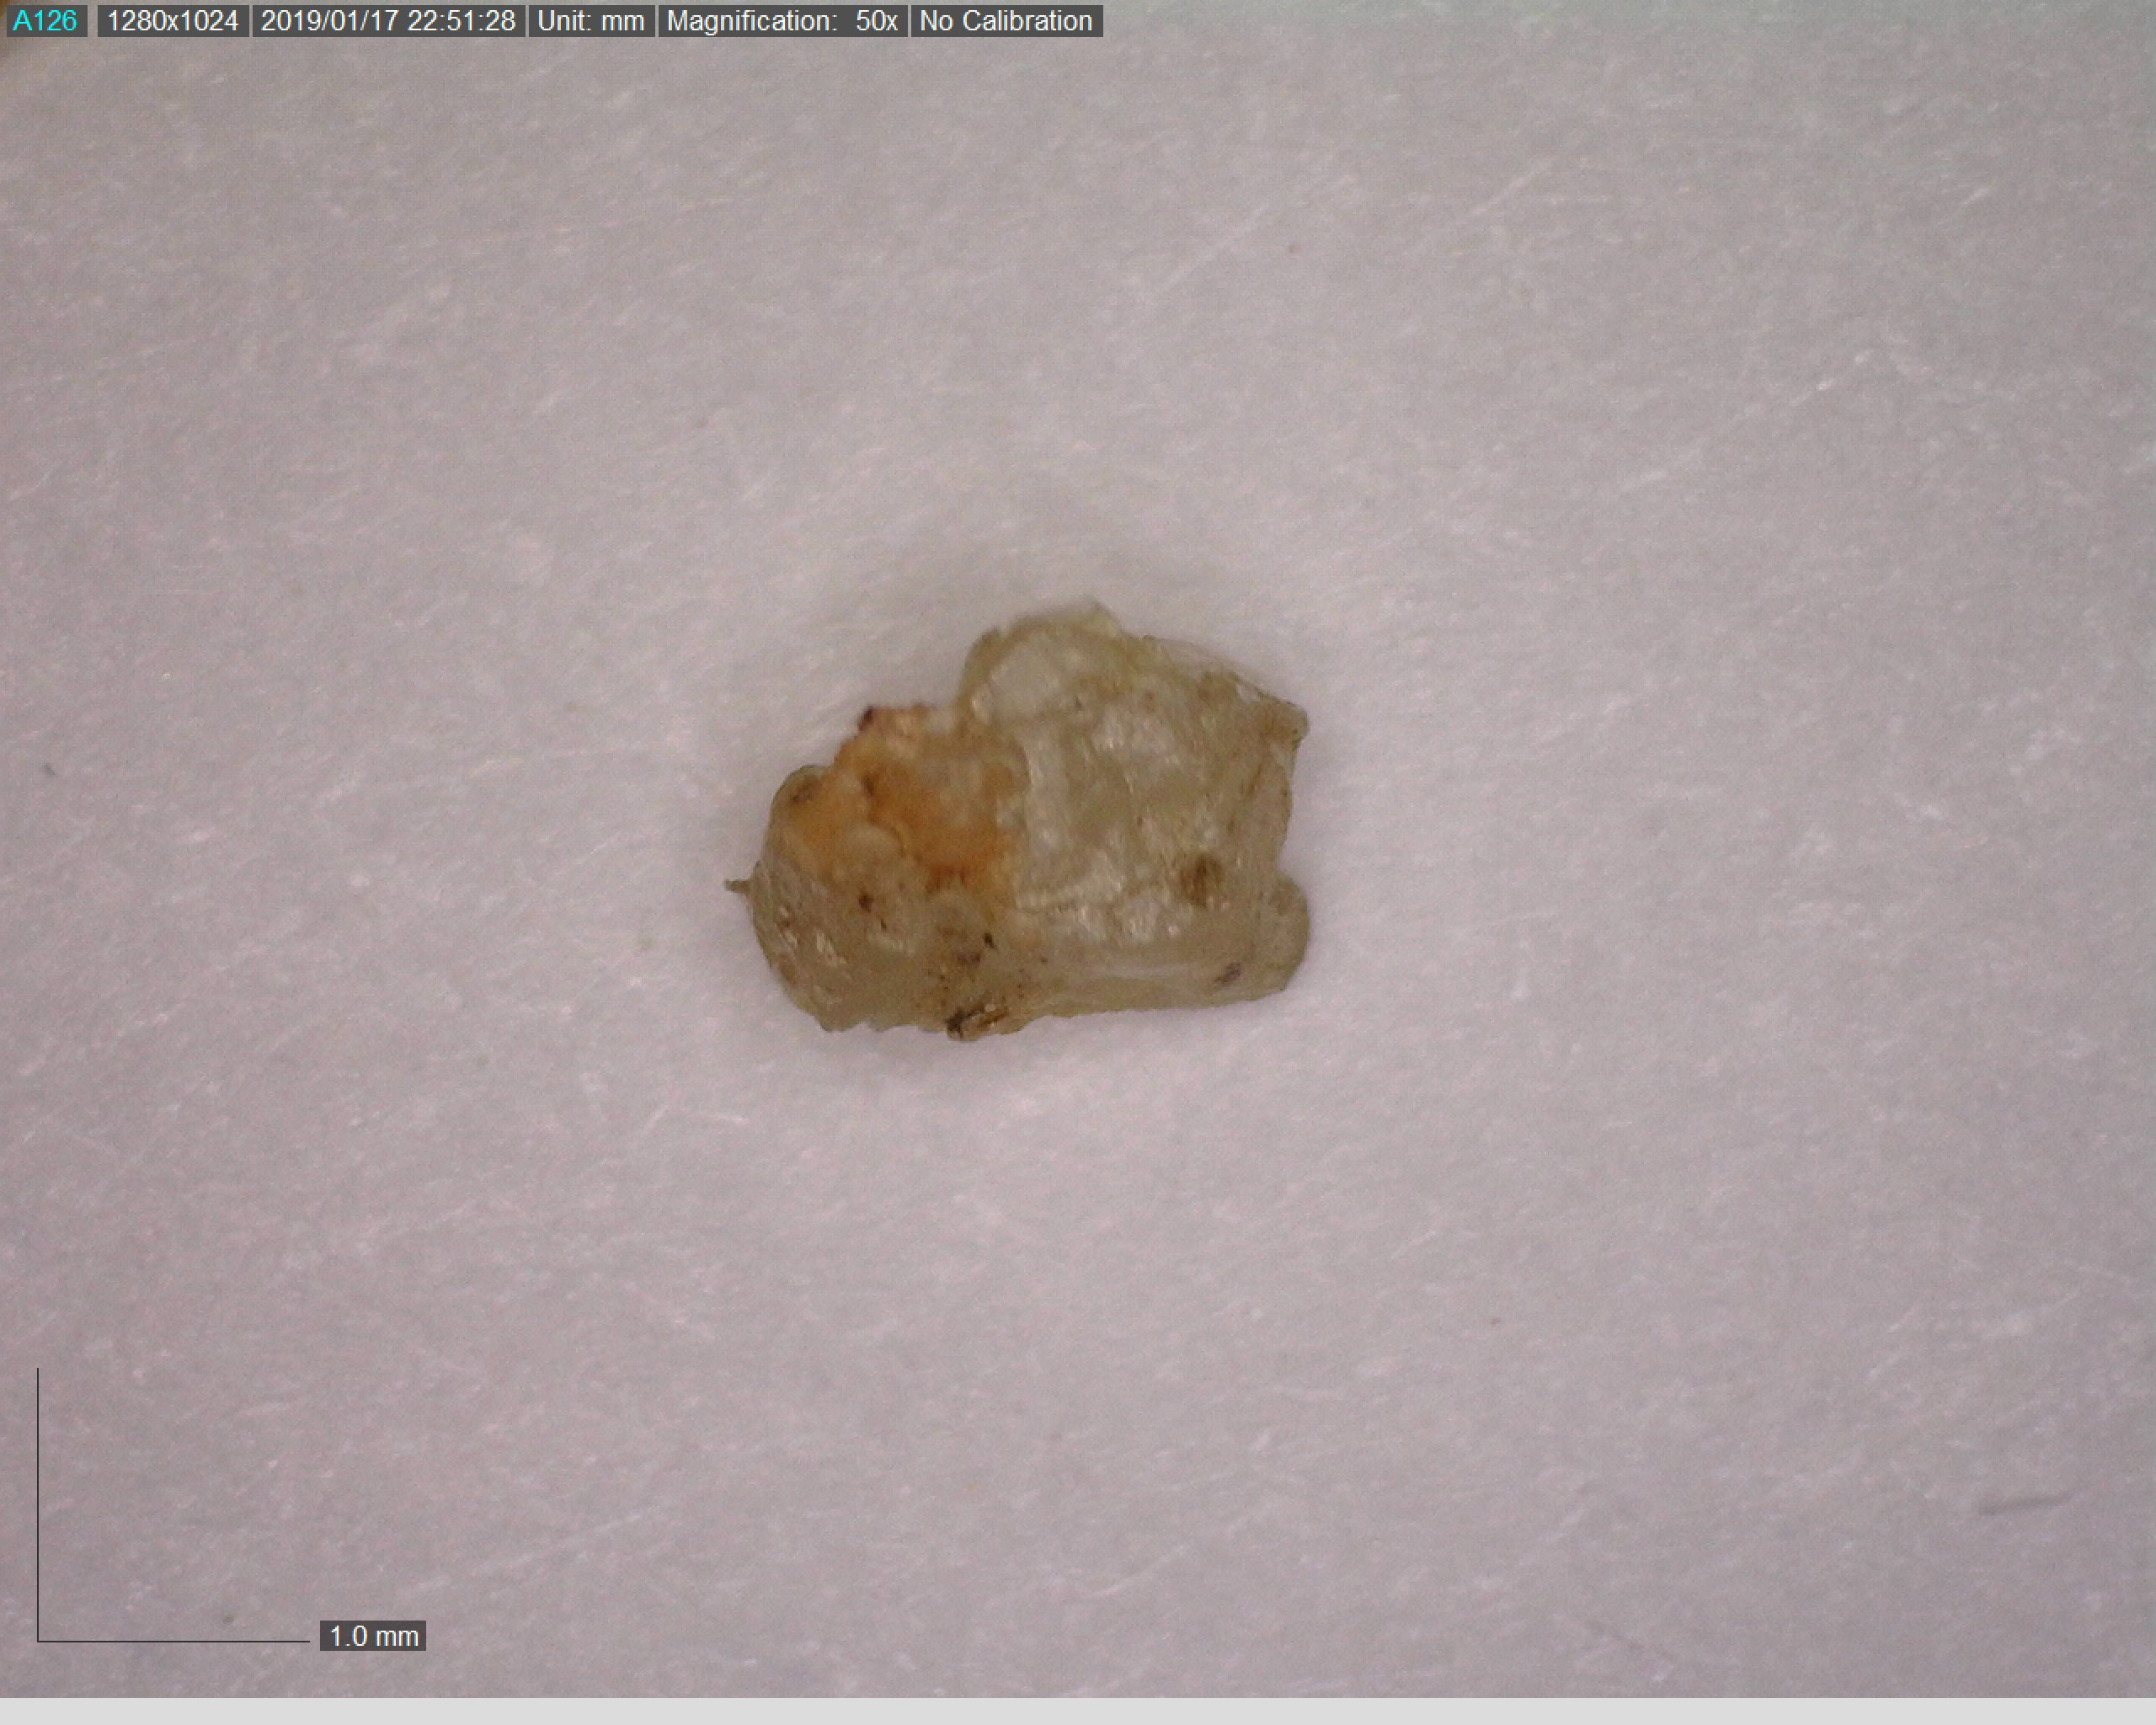Quartz: (722, 590, 1316, 1054)
